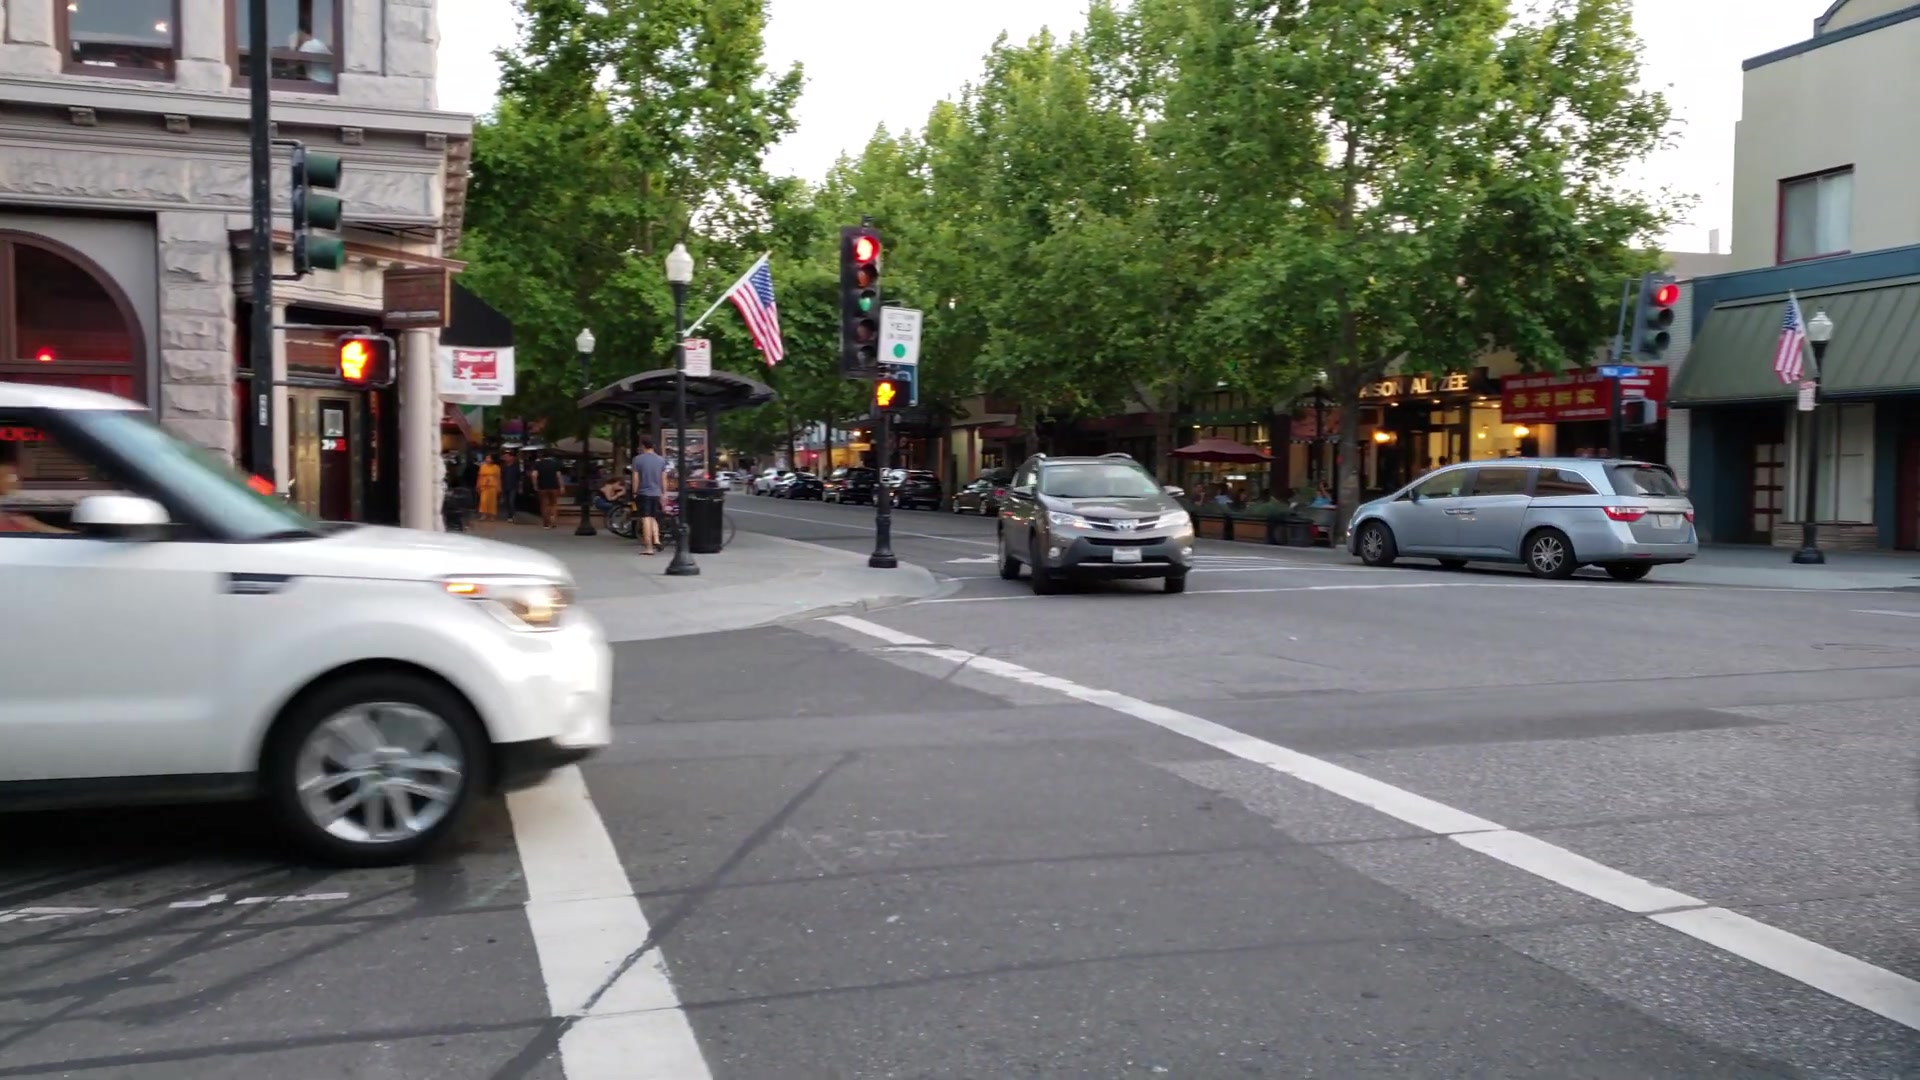vehicle: (1, 371, 615, 864), (1346, 448, 1698, 582), (996, 451, 1197, 601)
